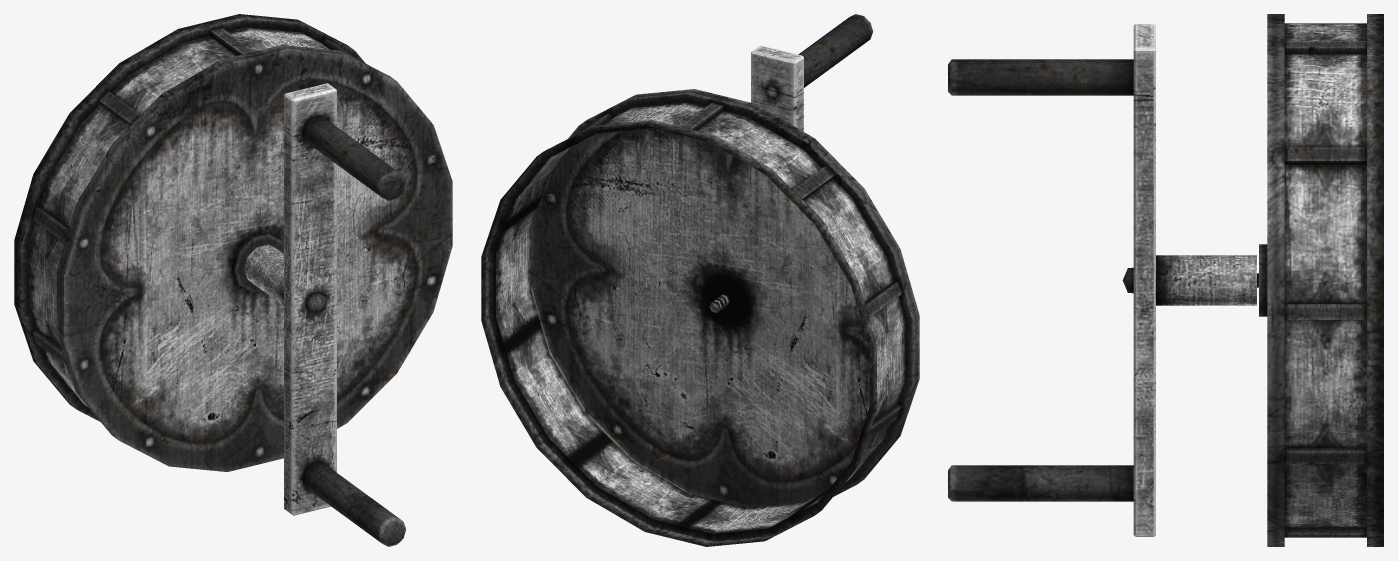
The model's file is crank_iron.dae.
3 views of the same model, side by side, from view 1: azimuth 30°, elevation 25°; view 2: azimuth 150°, elevation 25°; view 3: azimuth 270°, elevation 25° (orthographic). The views are drawn at different scales.
Parts seen in each view (by area): view 1: crank_iron_drum, crank_iron_crank; view 2: crank_iron_drum, crank_iron_crank; view 3: crank_iron_drum, crank_iron_crank.
Part boxes in pixels (x1=…): crank_iron_drum: x1=14, y1=14, x2=452, y2=471; crank_iron_crank: x1=244, y1=83, x2=406, y2=546; crank_iron_drum: x1=481, y1=89, x2=919, y2=546; crank_iron_crank: x1=709, y1=14, x2=872, y2=312; crank_iron_drum: x1=1259, y1=14, x2=1383, y2=546; crank_iron_crank: x1=948, y1=24, x2=1258, y2=536.
Size of the model in its own units: 0.4938 by 0.5059 by 0.4086.
